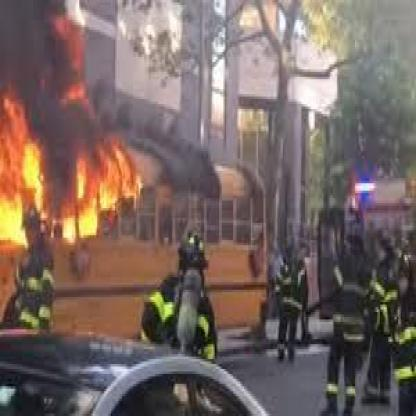fire: (1, 73, 146, 268)
smoke: (0, 0, 68, 92)
